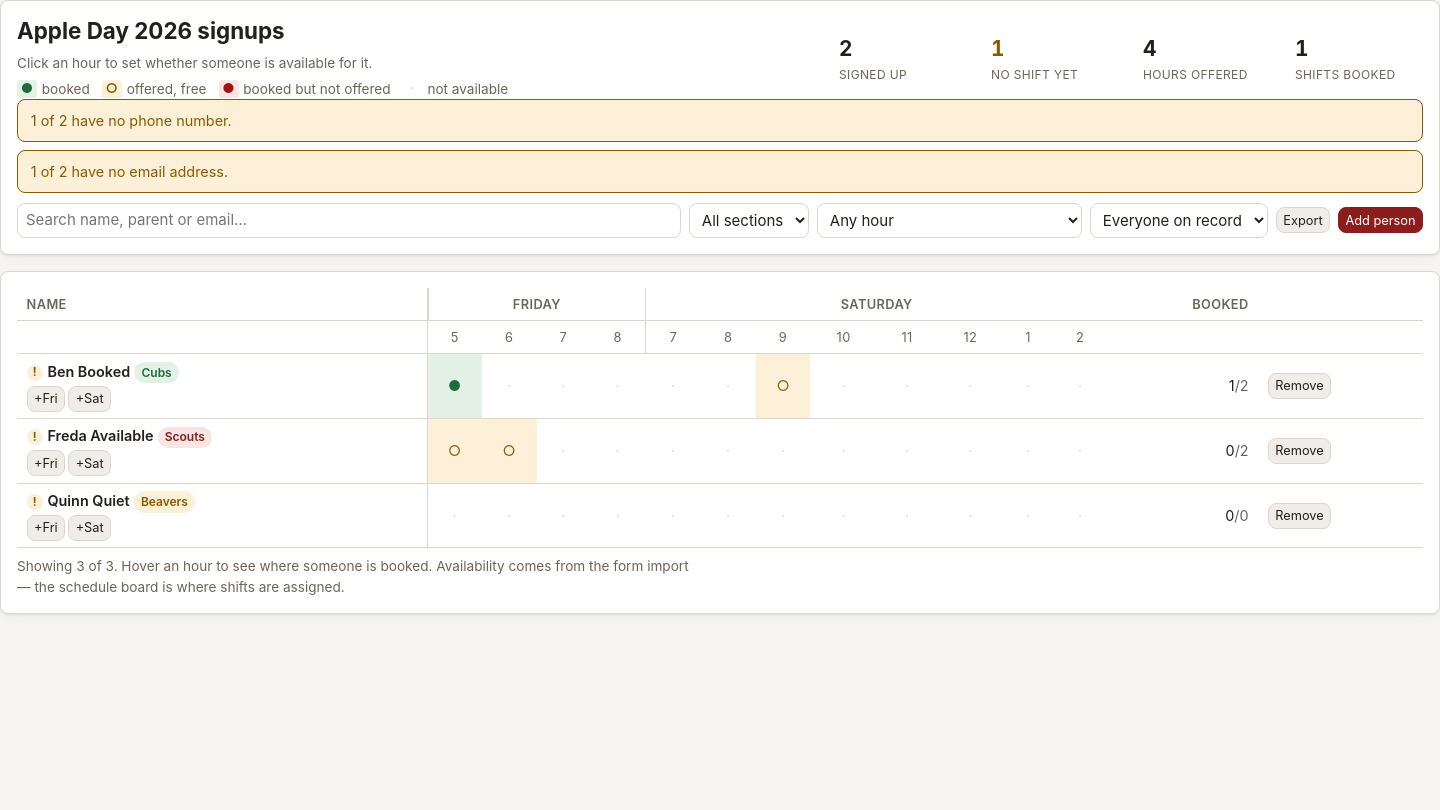
Test: filters › shows only those with no shift yet
This screenshot has width=1440, height=810.
Select "Signed up, no shift" in the dropdown named "Who to show" at (1179,220), box 1090,203 -> 1268,238
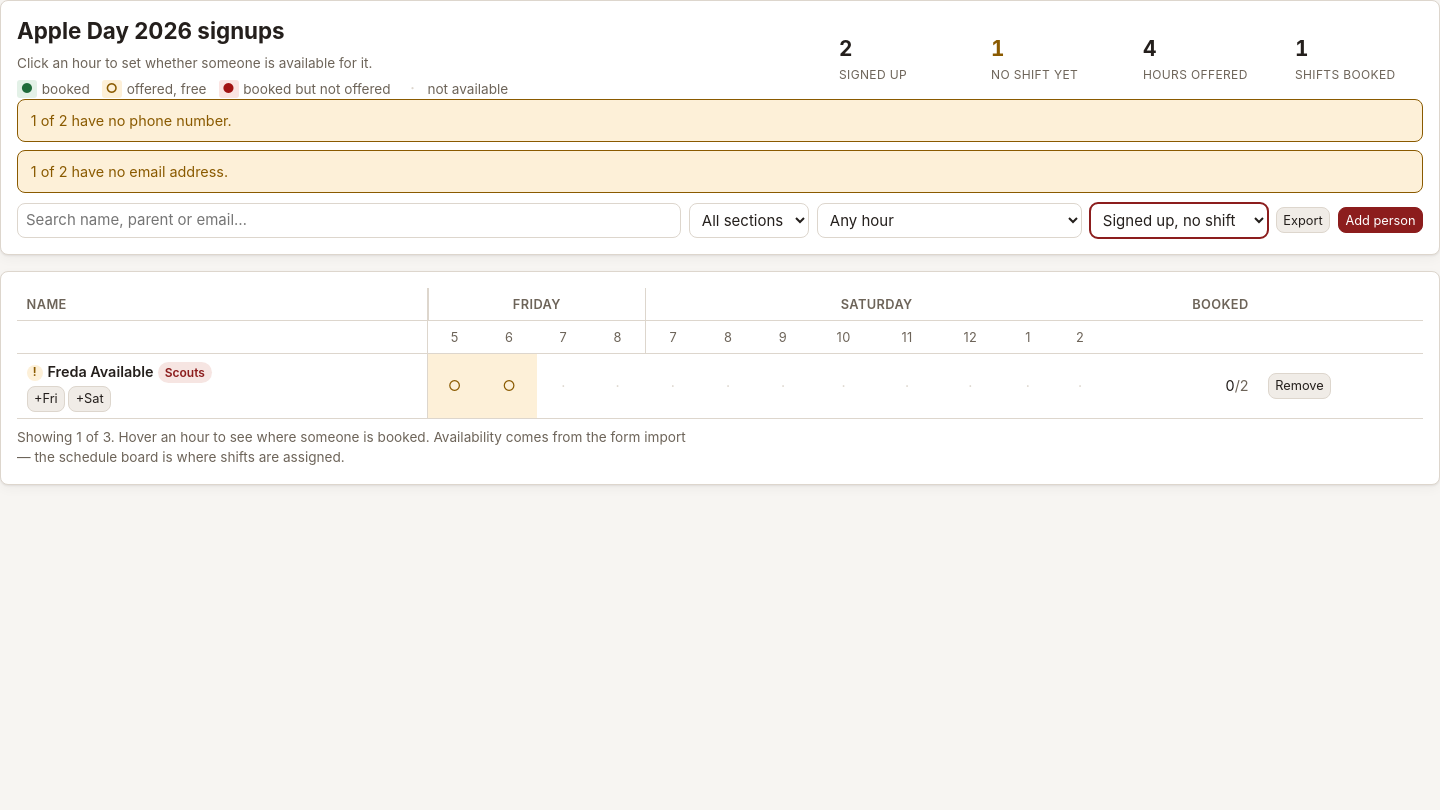
Expected: the link "Freda Available" is shown, 47,363 -> 153,380
Result: the link "Ben Booked" is gone
